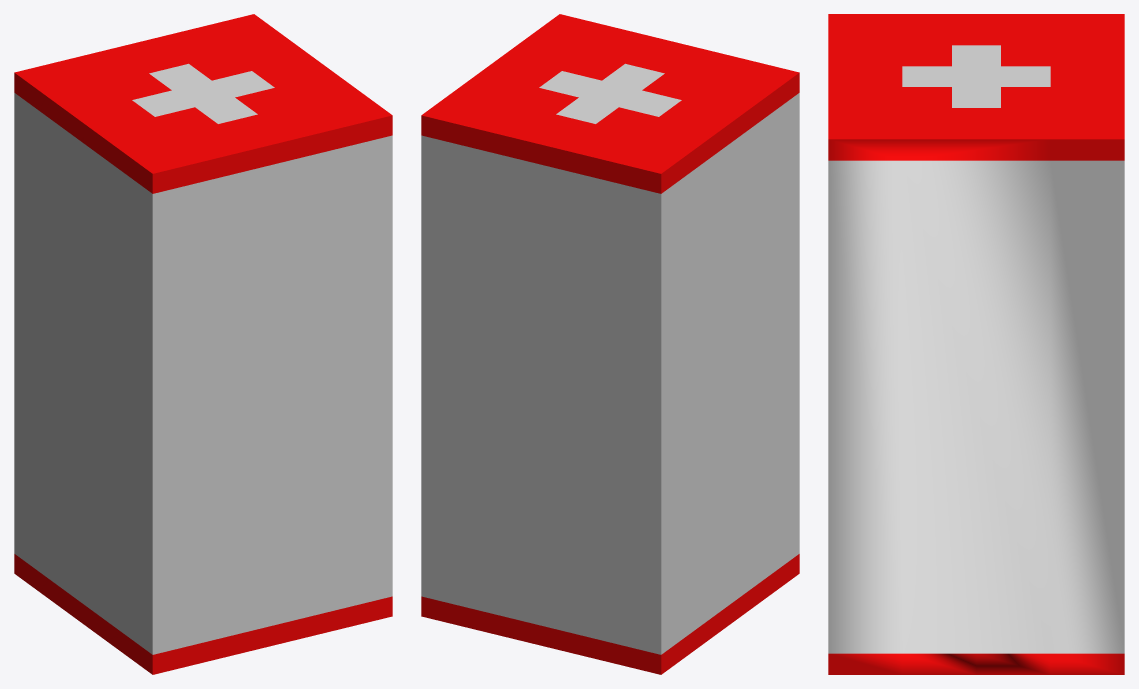
Rendered from Medkit.fbx.
3 views of the same model, side by side, from view 1: azimuth 30°, elevation 25°; view 2: azimuth 150°, elevation 25°; view 3: azimuth 270°, elevation 25° (orthographic). The views are drawn at different scales.
Parts seen in each view (by area): view 1: Cube; view 2: Cube; view 3: Cube.
Boxes of the visible parts, box(x1,y1,x2,y2) form: Cube: box(14, 14, 392, 674); Cube: box(421, 14, 799, 674); Cube: box(828, 14, 1124, 674).
Size of the model in its own units: 200 by 399 by 200.
